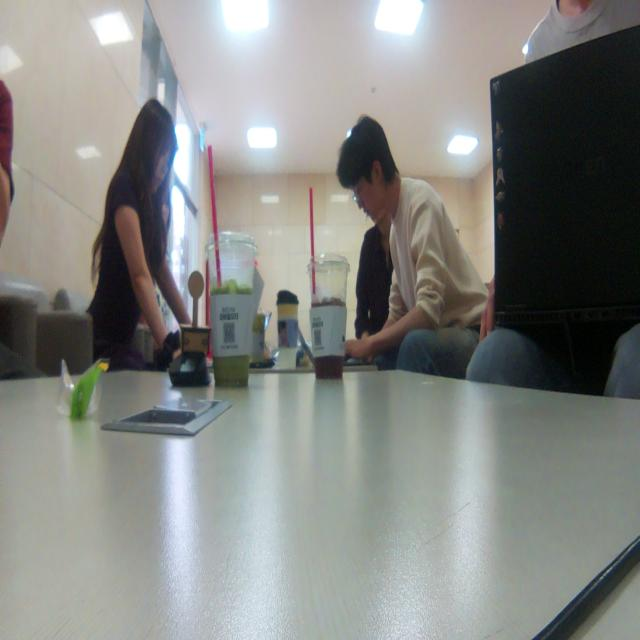target: (179, 270, 211, 360)
